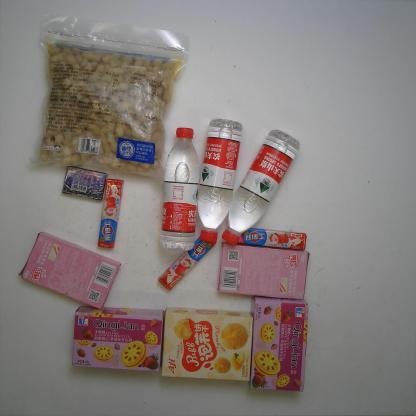Candy: (158, 238, 217, 292), (98, 178, 124, 249), (237, 228, 307, 250)
Dessert: (18, 232, 123, 310), (160, 307, 254, 381), (72, 305, 164, 372), (248, 296, 309, 392), (217, 242, 311, 300)
Dried Food: (29, 15, 190, 183)
Drink: (221, 128, 301, 246), (198, 118, 243, 242), (159, 127, 201, 251)
Gum: (62, 165, 108, 202)
